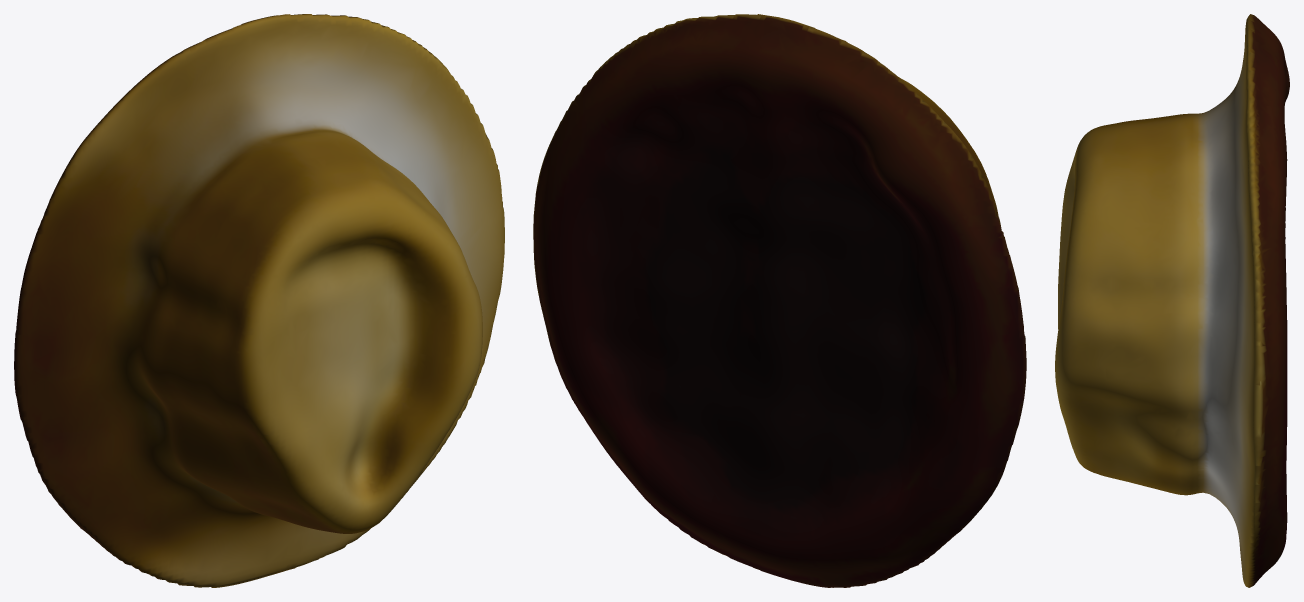
The model's file is hat.glb.
3 renders of one model, left to right at view 1: azimuth 30°, elevation 25°; view 2: azimuth 150°, elevation 25°; view 3: azimuth 270°, elevation 25°, orthographic. The views are drawn at different scales.
Size of the model in its own units: 0.9157 by 0.9968 by 0.4066.
